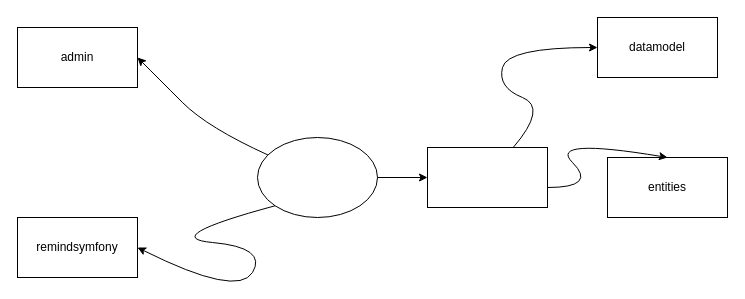
The diagram is 745 pixels wide and 299 high, and some of its shapes have lost their labels. The shapes that lost their labels are listed below. From the top down, each one's centre as x and y in pixels, then its label:
At [317,177]: "Master".
At [487,177]: "easyadmin".
